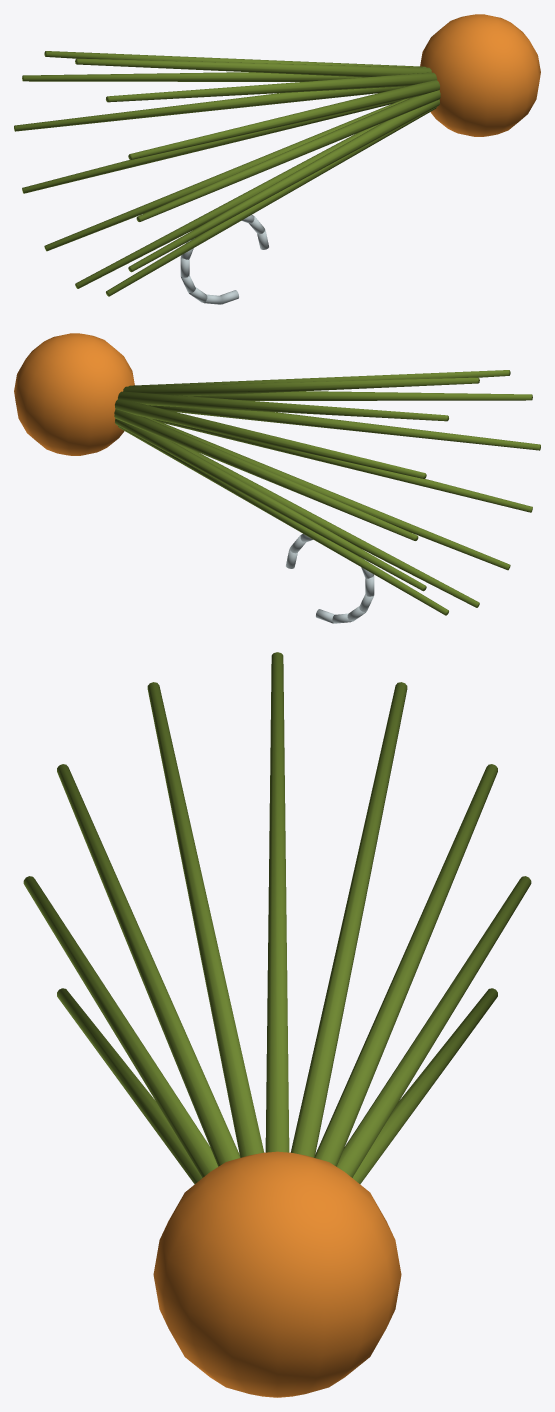
File: SM_Jig.fbx
3 renders of one model, top to bottom at view 1: azimuth 30°, elevation 25°; view 2: azimuth 150°, elevation 25°; view 3: azimuth 270°, elevation 25°, orthographic. The views are drawn at different scales.
Visible parts, largest first — view 1: SM_Jig; view 2: SM_Jig; view 3: SM_Jig.
Part boxes in pixels (left/top/right/bottom): SM_Jig: left=14, top=14, right=540, bottom=304; SM_Jig: left=14, top=333, right=540, bottom=623; SM_Jig: left=23, top=652, right=531, bottom=1397.
Bounding box in the file's own units: 6.81 × 3.27 × 4.
